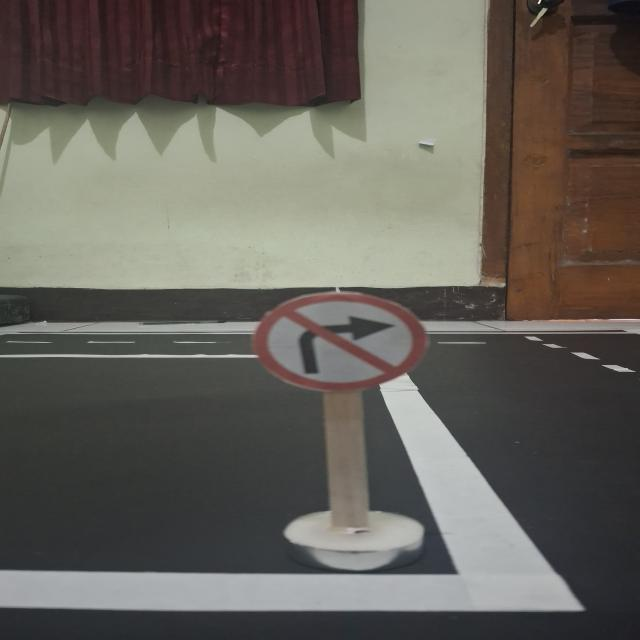Dilarang Belok Kanan: (252, 292, 429, 392)
